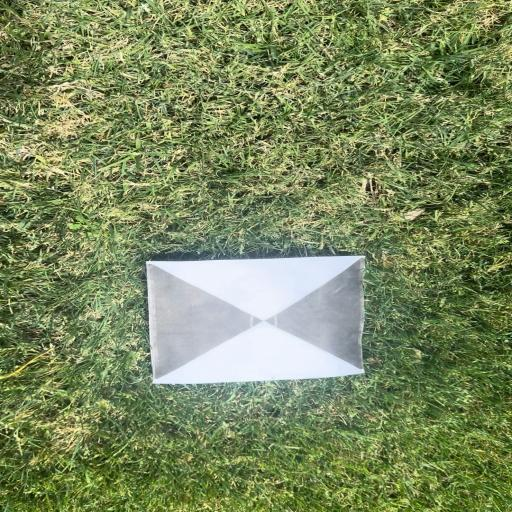target: (146, 261, 361, 377)
